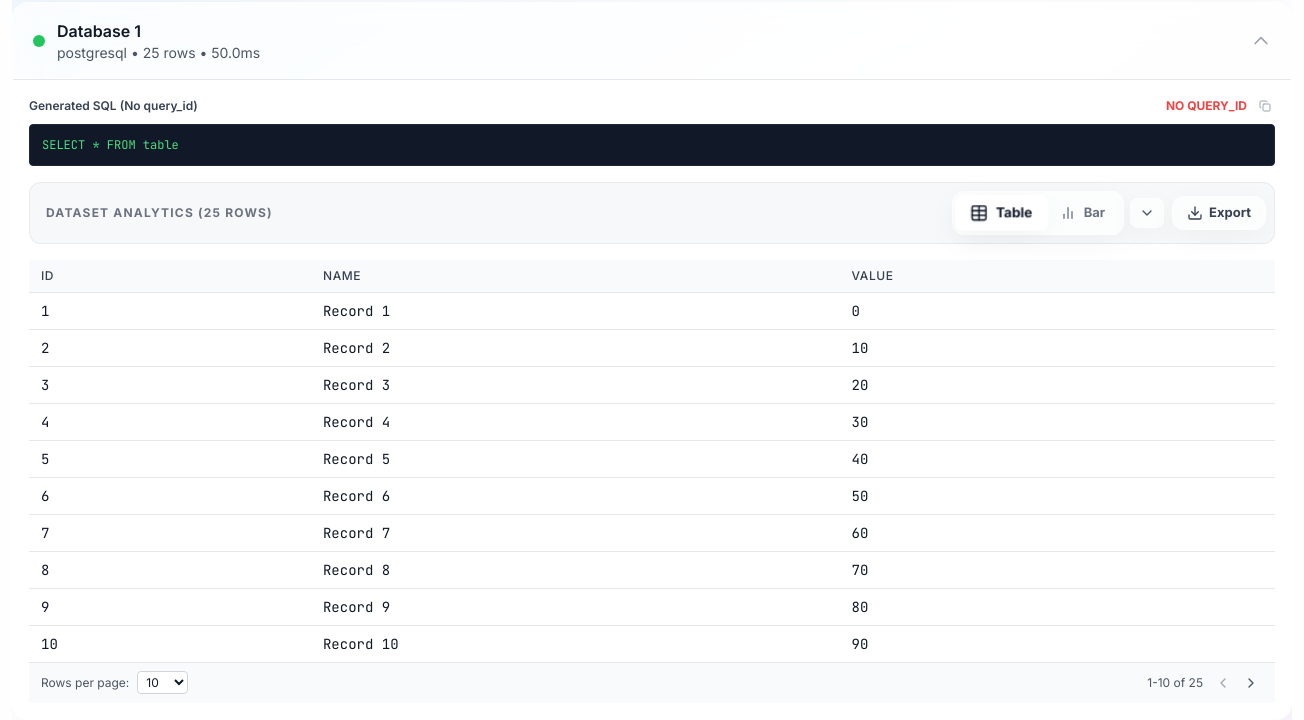
Test: MultiDatabaseResults › Pagination › resets to page 1 when page size changes
(page scrolled)
Click the 8th button at (1251, 682), box [1239,670,1263,694]
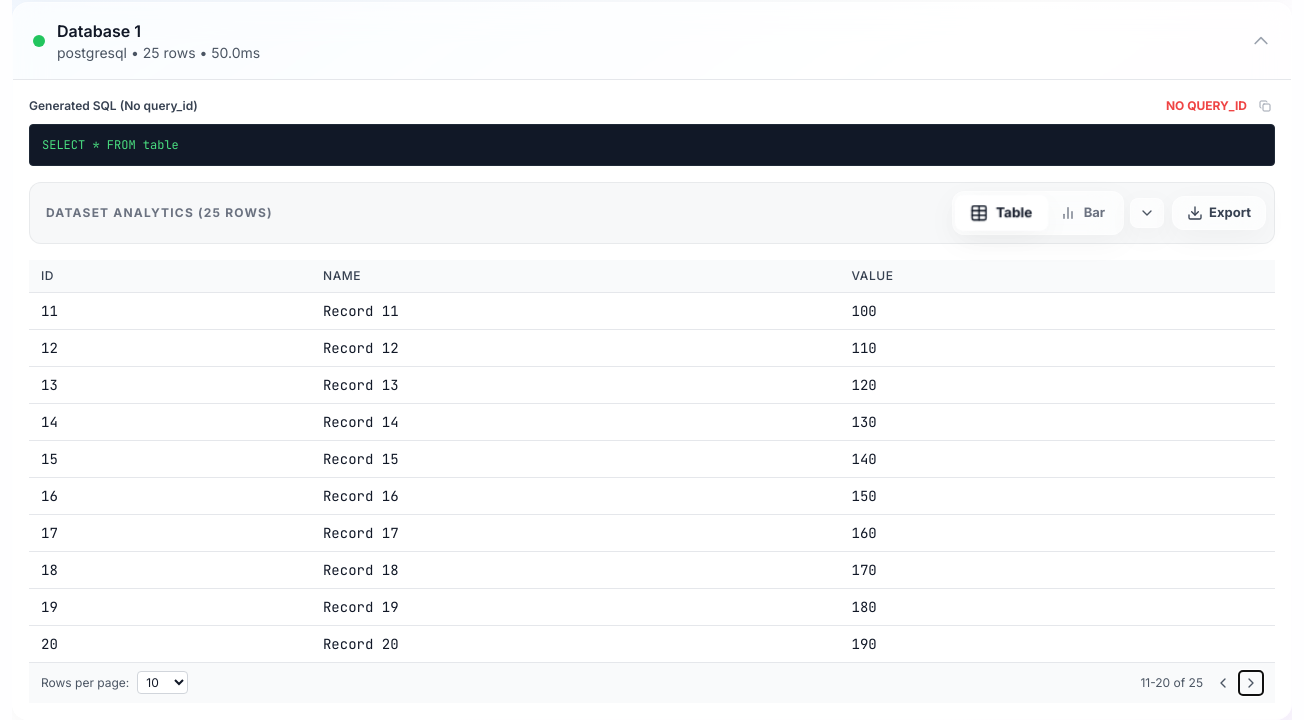
Check: the text "11-20 of 25" is shown, box [1140,674,1203,690]
Change page size
Select "50" in the dropdown at (163, 682), box [137,671,188,694]
(page scrolled)
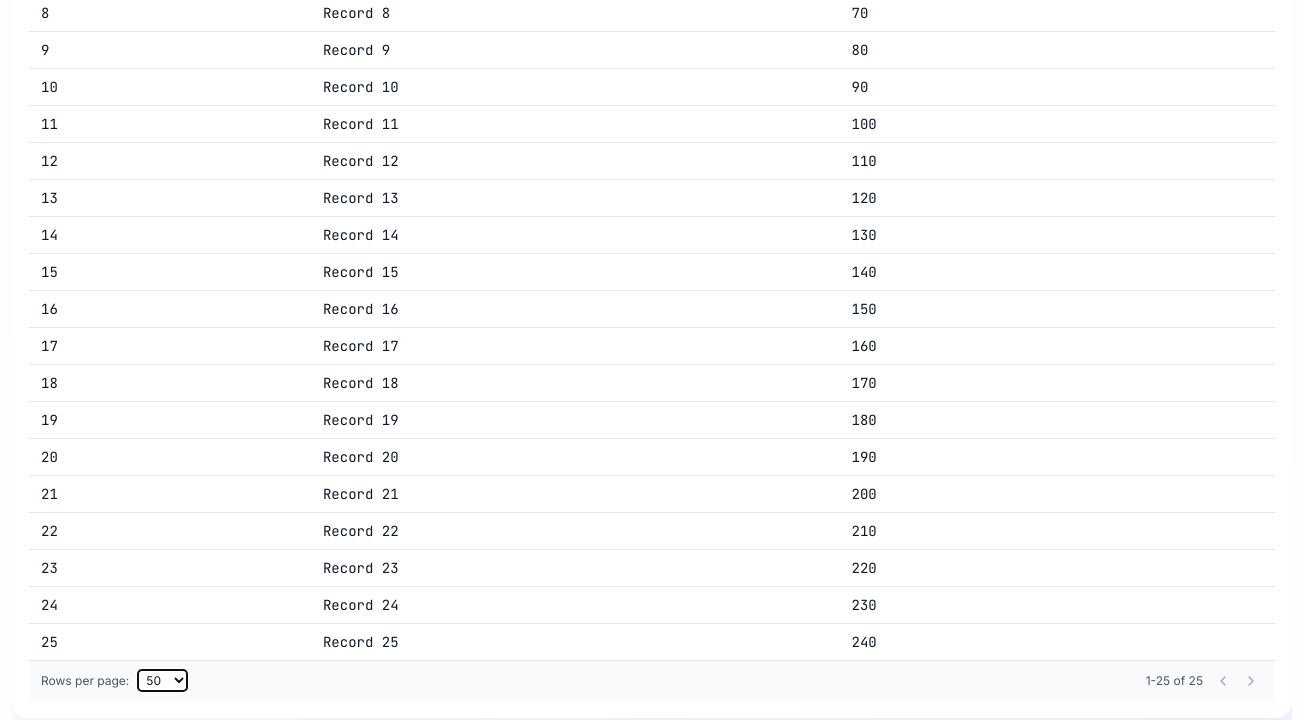
Check: the text "1-25 of 25" is shown, box [1146,672,1203,688]
